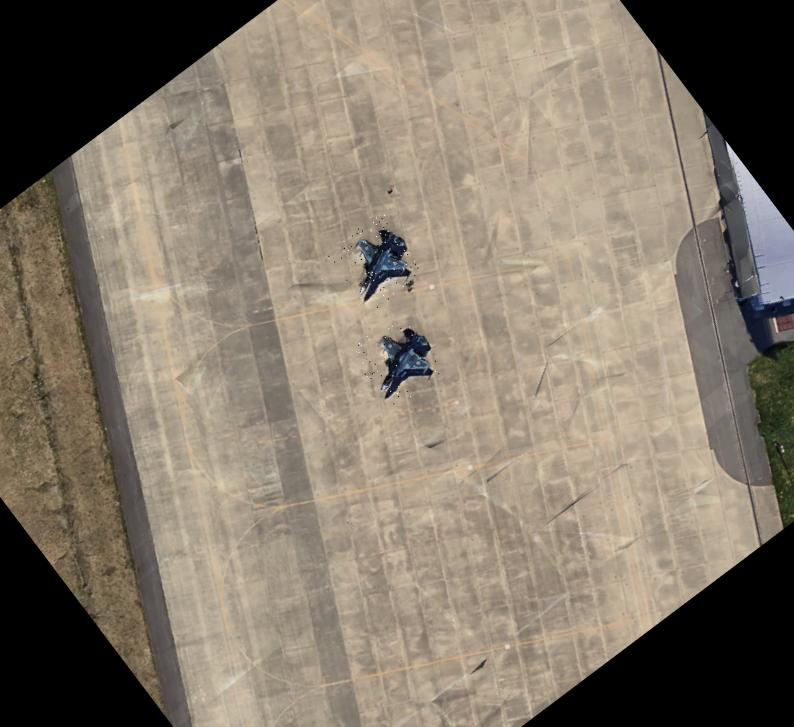A5: (324, 209, 428, 314), (346, 306, 450, 410)
